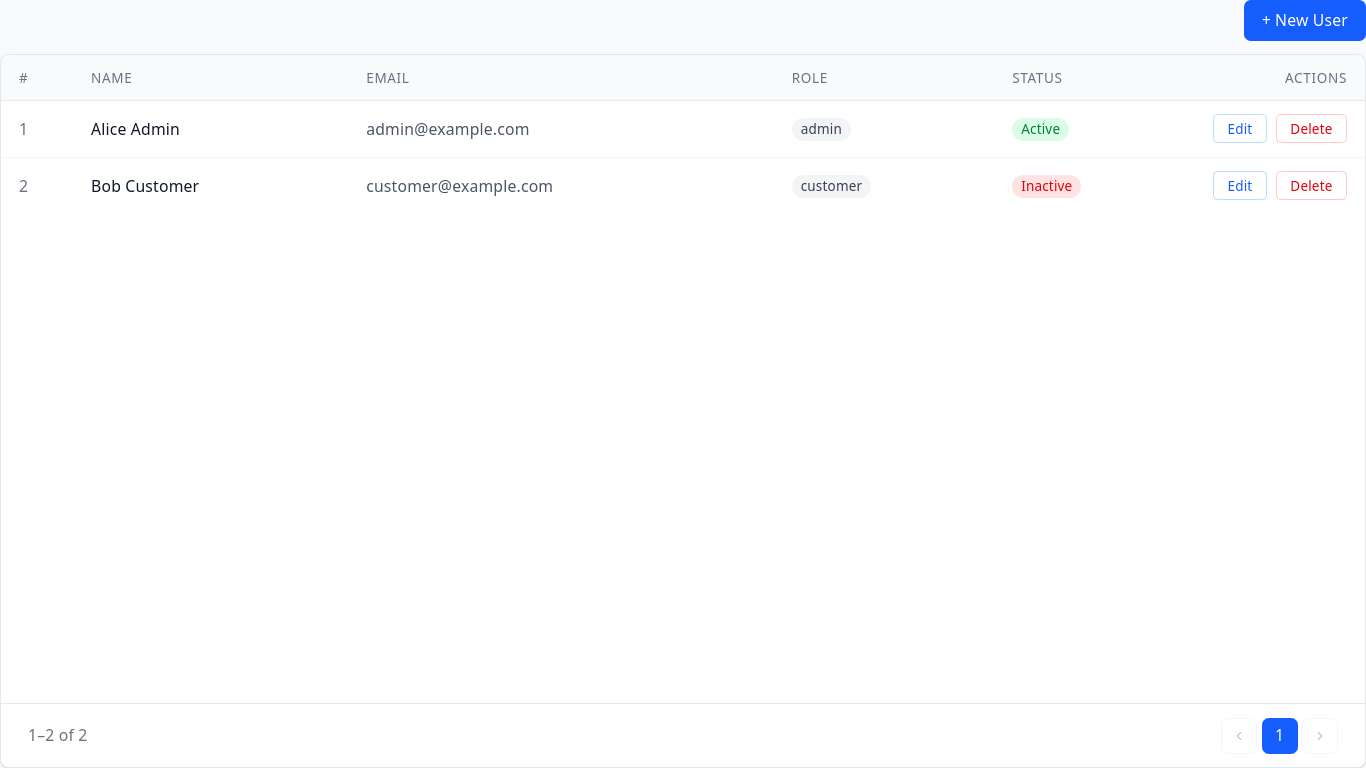
UserList › opens "Create User" modal when "+ New User" is clicked
The width and height of the screenshot is (1366, 768).
Click the button "+ New User". click: {"x": 1305, "y": 20}
box: [1244,0,1365,40]
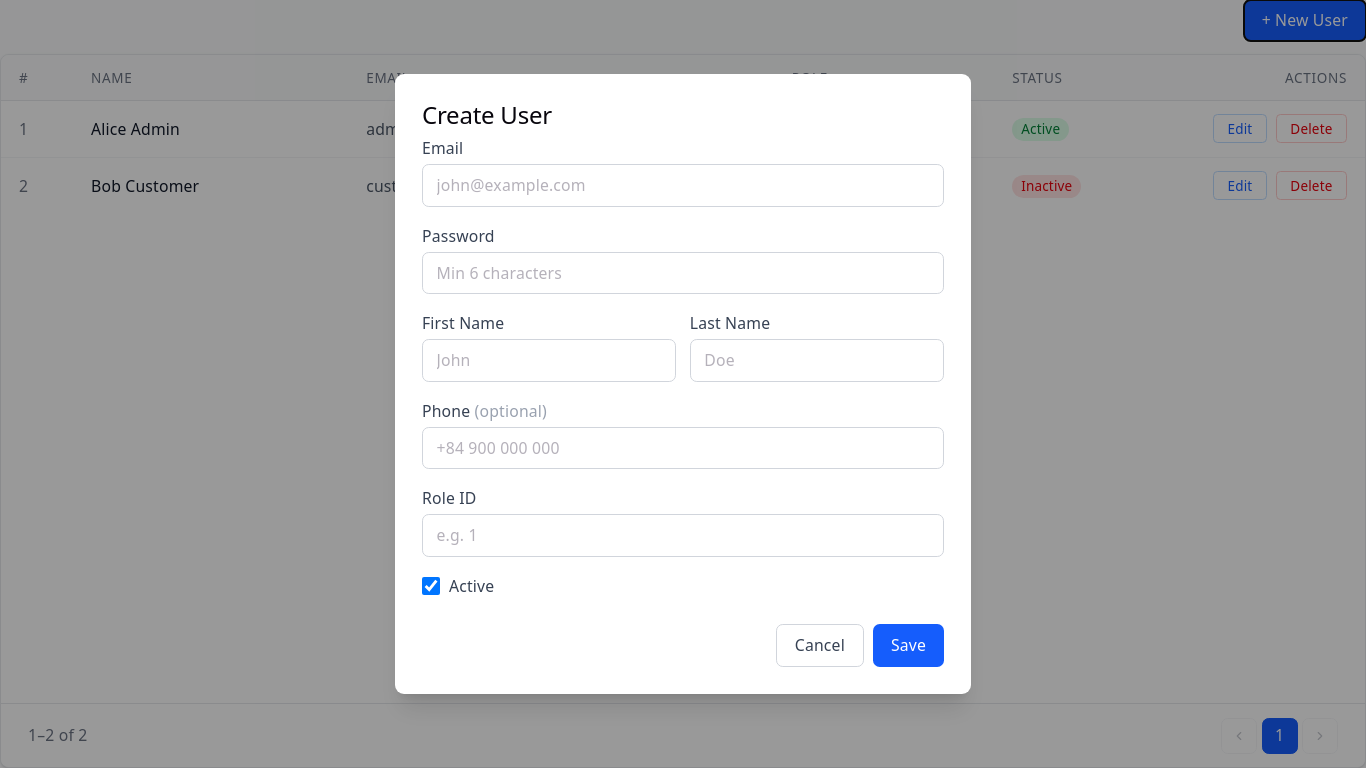
Check: the heading "Create User" is shown, box [422,98,552,131]
